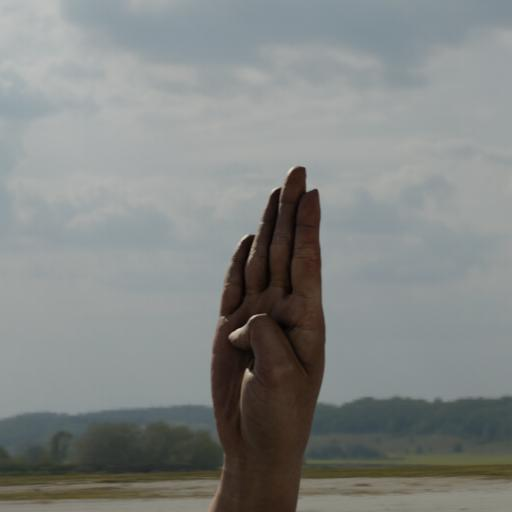B: (198, 157, 332, 466)
